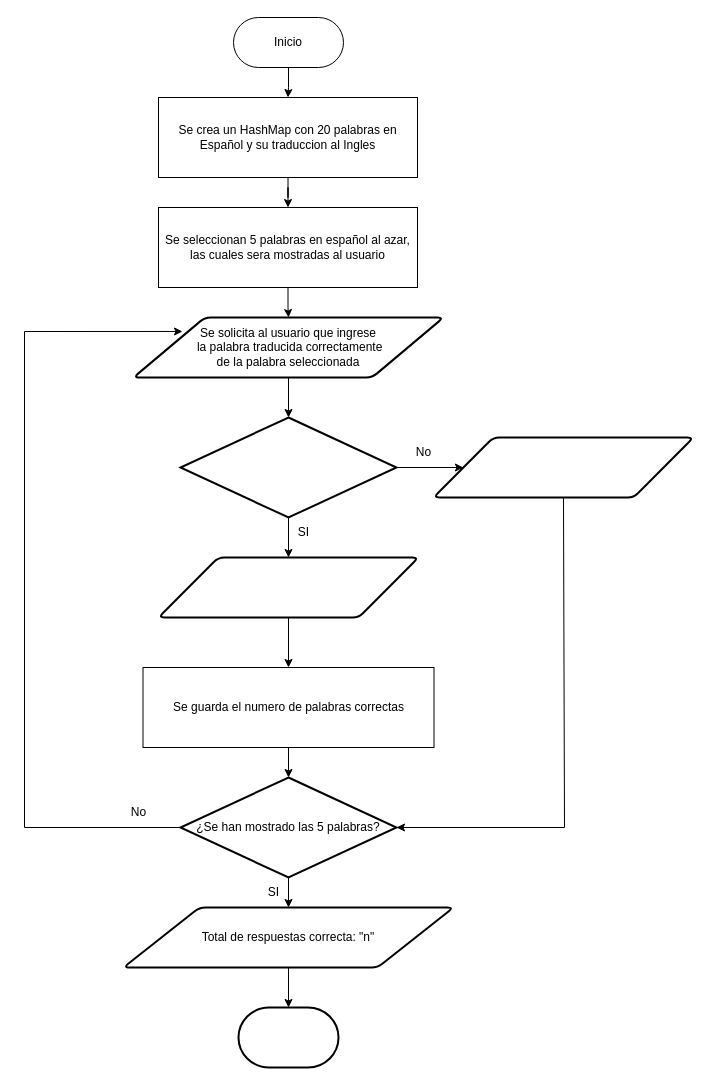
Image size: 712x1086. Some labels were removed from this diagram. The centre of each missing label's shape, as x and y in pixels:
Fin: pixel 288 1037
Tu respuesta es correcta: pixel 288 587
Tu respuesta es incorrecta. La respuesta correcta es "...": pixel 563 467
¿La traducción es igual a la guardada en HashMap?: pixel 288 467
